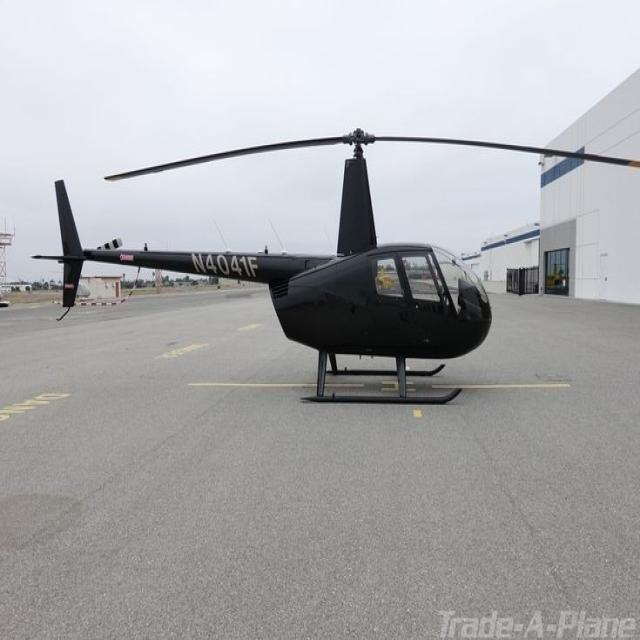CIV_HELO: (31, 125, 493, 405)
